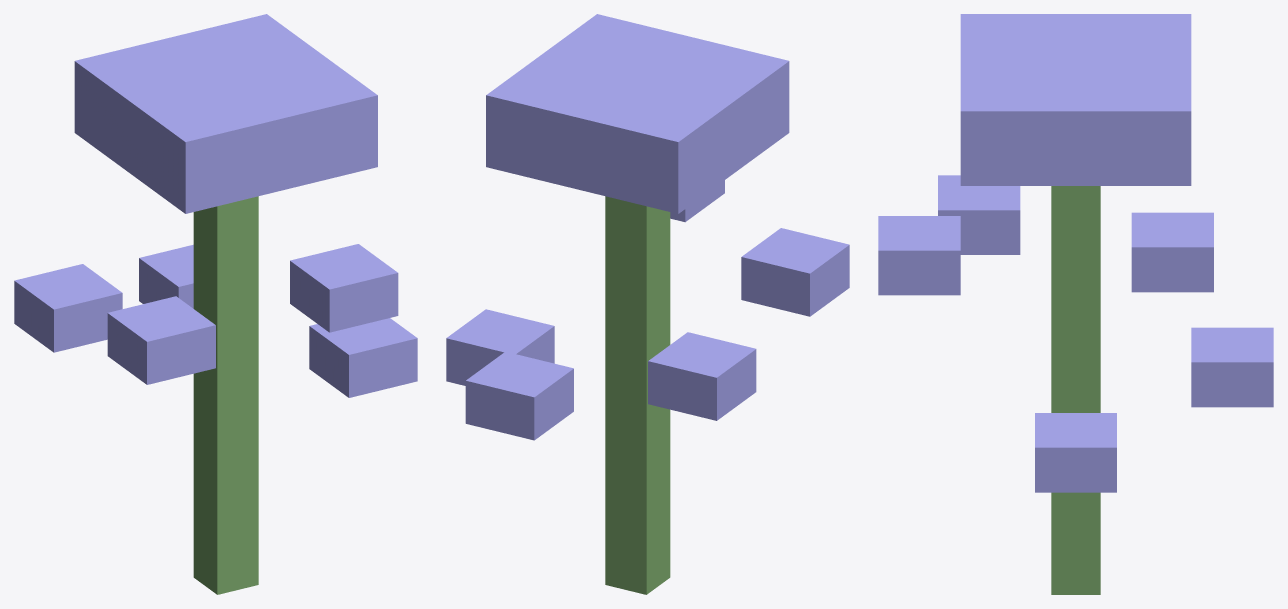
File: Prop_DS_Herb_BufferBloom_S3_V2.glb
3 views of the same model, side by side, from view 1: azimuth 30°, elevation 25°; view 2: azimuth 150°, elevation 25°; view 3: azimuth 270°, elevation 25° (orthographic). The views are drawn at different scales.
Parts seen in each view (by area): view 1: Prop_DS_Herb_BufferBloom_S3_V2; view 2: Prop_DS_Herb_BufferBloom_S3_V2; view 3: Prop_DS_Herb_BufferBloom_S3_V2.
Boxes of the visible parts, x1=… form: Prop_DS_Herb_BufferBloom_S3_V2: x1=14, y1=14, x2=417, y2=594; Prop_DS_Herb_BufferBloom_S3_V2: x1=446, y1=14, x2=849, y2=594; Prop_DS_Herb_BufferBloom_S3_V2: x1=878, y1=14, x2=1273, y2=594.
Size of the model in its own units: 0.4618 by 0.7 by 0.4804.
